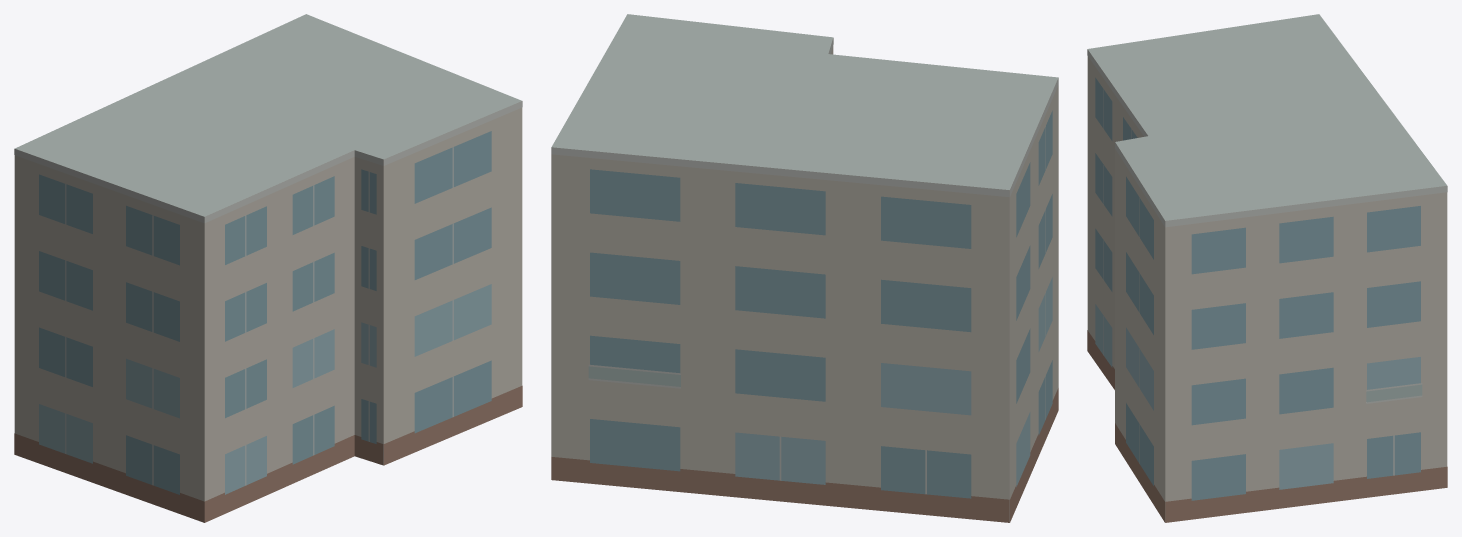
The model's file is survey-upis-32863165.glb.
The picture shows the model from 3 angles, left to right: view 1: azimuth 30°, elevation 25°; view 2: azimuth 150°, elevation 25°; view 3: azimuth 270°, elevation 25°; orthographic projection. The views are drawn at different scales.
Parts seen in each view (by area): view 1: survey-upis-32863165.tmp; view 2: survey-upis-32863165.tmp; view 3: survey-upis-32863165.tmp.
Part boxes in pixels (x1,y1,x2,y2): survey-upis-32863165.tmp: [14, 14, 522, 522]; survey-upis-32863165.tmp: [551, 14, 1058, 522]; survey-upis-32863165.tmp: [1087, 14, 1447, 522].
Size of the model in its own units: 16.84 by 11.45 by 12.38.
